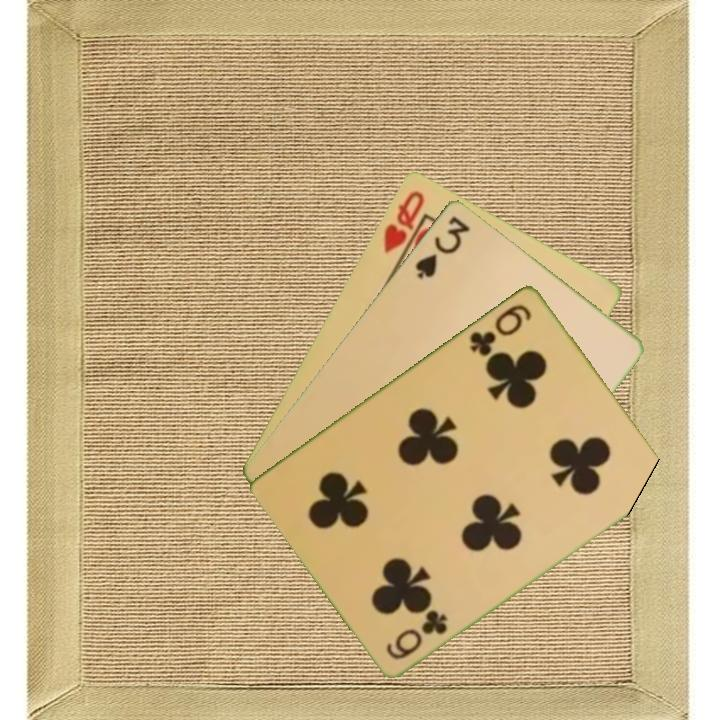3s: (411, 212, 473, 281)
6c: (466, 300, 535, 359), (382, 606, 451, 662)
Qh: (379, 186, 428, 256)
